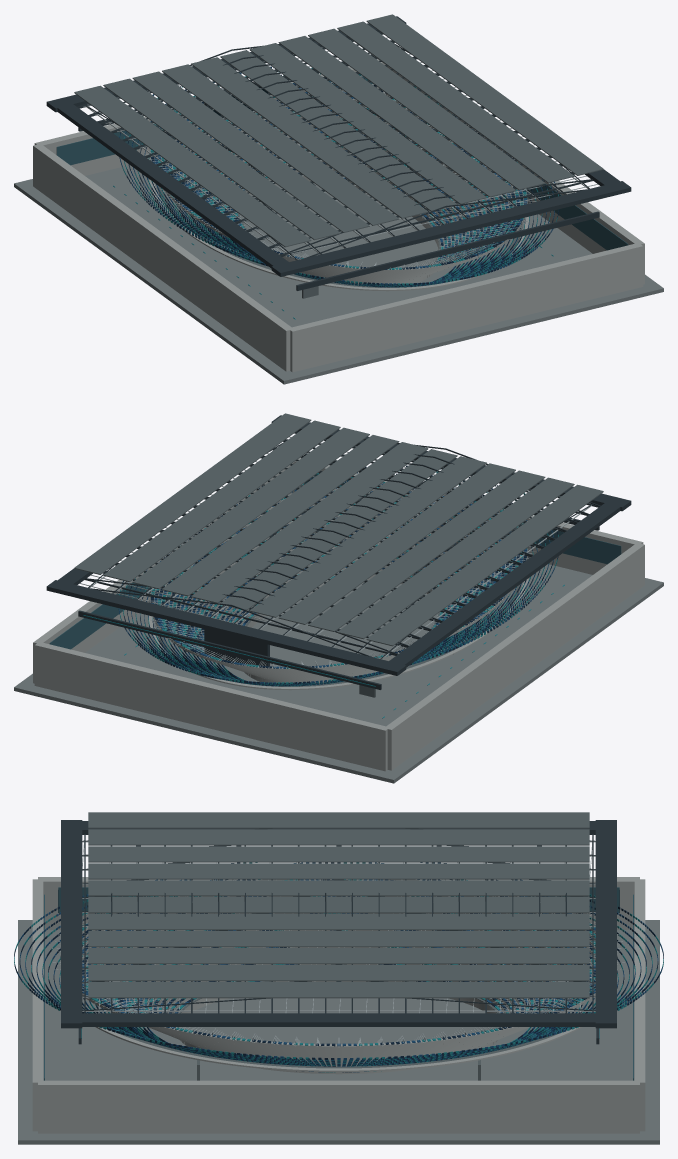
Rendered from realistic-arena.glb.
3 views of the same model, one above another, from view 1: azimuth 30°, elevation 25°; view 2: azimuth 150°, elevation 25°; view 3: azimuth 270°, elevation 25° (orthographic). The views are drawn at different scales.
Parts seen in each view (by area): view 1: Arena_concrete_dark, Arena_concrete, Arena_floor, Arena_steel, Arena_metal, Arena_cyan, Arena_navy, Arena_blue, Arena_glass; view 2: Arena_concrete_dark, Arena_concrete, Arena_floor, Arena_steel, Arena_metal, Arena_cyan, Arena_blue, Arena_navy, Arena_glass; view 3: Arena_concrete_dark, Arena_concrete, Arena_floor, Arena_steel, Arena_navy, Arena_cyan, Arena_blue, Arena_metal, Arena_glass.
Part boxes in pixels (left/top/right/bottom): Arena_concrete_dark: left=74, top=14, right=603, bottom=298; Arena_concrete: left=33, top=59, right=644, bottom=372; Arena_floor: left=14, top=153, right=663, bottom=384; Arena_steel: left=46, top=16, right=631, bottom=290; Arena_metal: left=83, top=37, right=597, bottom=269; Arena_cyan: left=122, top=67, right=558, bottom=287; Arena_navy: left=119, top=70, right=559, bottom=287; Arena_blue: left=119, top=66, right=554, bottom=287; Arena_glass: left=56, top=74, right=628, bottom=250; Arena_concrete_dark: left=74, top=413, right=603, bottom=697; Arena_concrete: left=33, top=458, right=644, bottom=771; Arena_floor: left=14, top=552, right=663, bottom=783; Arena_steel: left=46, top=415, right=631, bottom=689; Arena_metal: left=79, top=436, right=591, bottom=668; Arena_cyan: left=119, top=470, right=558, bottom=686; Arena_blue: left=118, top=469, right=554, bottom=686; Arena_navy: left=123, top=465, right=558, bottom=686; Arena_glass: left=49, top=473, right=621, bottom=649; Arena_concrete_dark: left=82, top=812, right=595, bottom=1080; Arena_concrete: left=32, top=877, right=645, bottom=1133; Arena_floor: left=18, top=920, right=659, bottom=1144; Arena_steel: left=58, top=820, right=619, bottom=1044; Arena_navy: left=14, top=862, right=663, bottom=1072; Arena_cyan: left=14, top=862, right=663, bottom=1072; Arena_blue: left=17, top=862, right=662, bottom=1072; Arena_metal: left=51, top=840, right=626, bottom=1047; Arena_glass: left=44, top=887, right=633, bottom=1080.
Bounding box in the file's own units: 78 × 21.91 × 97.21.
